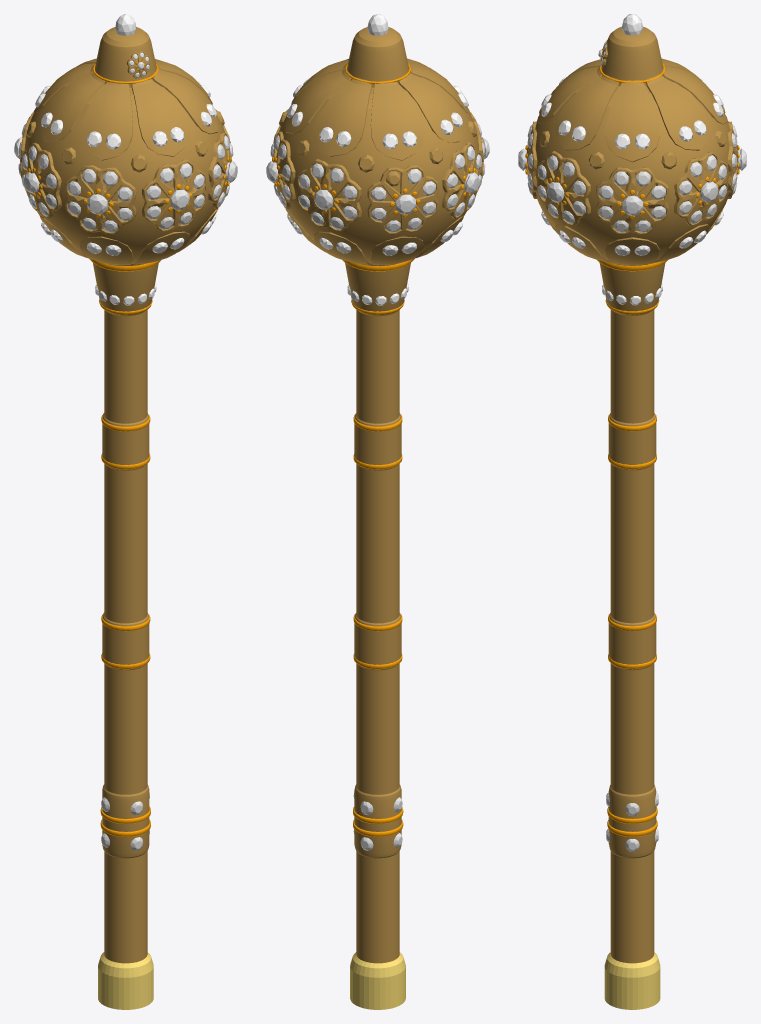
File: mace.glb
3 renders of one model, left to right at view 1: azimuth 30°, elevation 25°; view 2: azimuth 150°, elevation 25°; view 3: azimuth 270°, elevation 25°, orthographic.
Parts seen in each view (by area): view 1: mace; view 2: mace; view 3: mace.
Boxes of the visible parts, <box> form: mace: <box>14,14,237,1009</box>; mace: <box>266,14,489,1009</box>; mace: <box>518,14,746,1009</box>.
Size of the model in its own units: 0.3176 by 1.51 by 0.3176.
